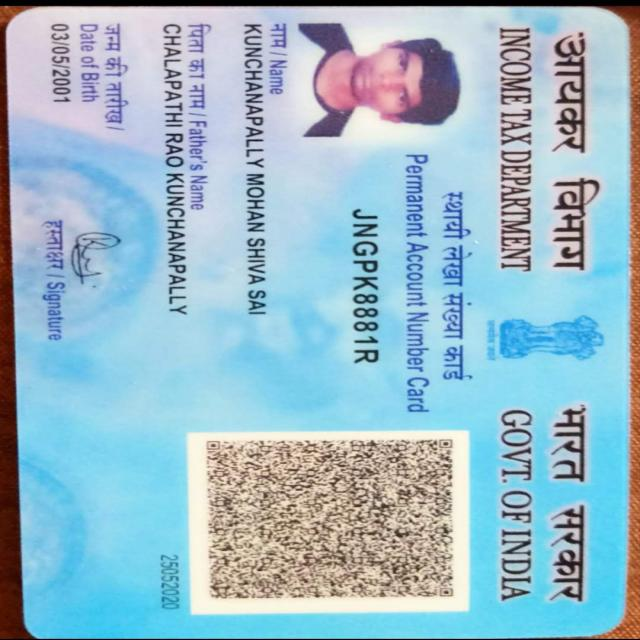pan_card: (7, 9, 628, 634)
